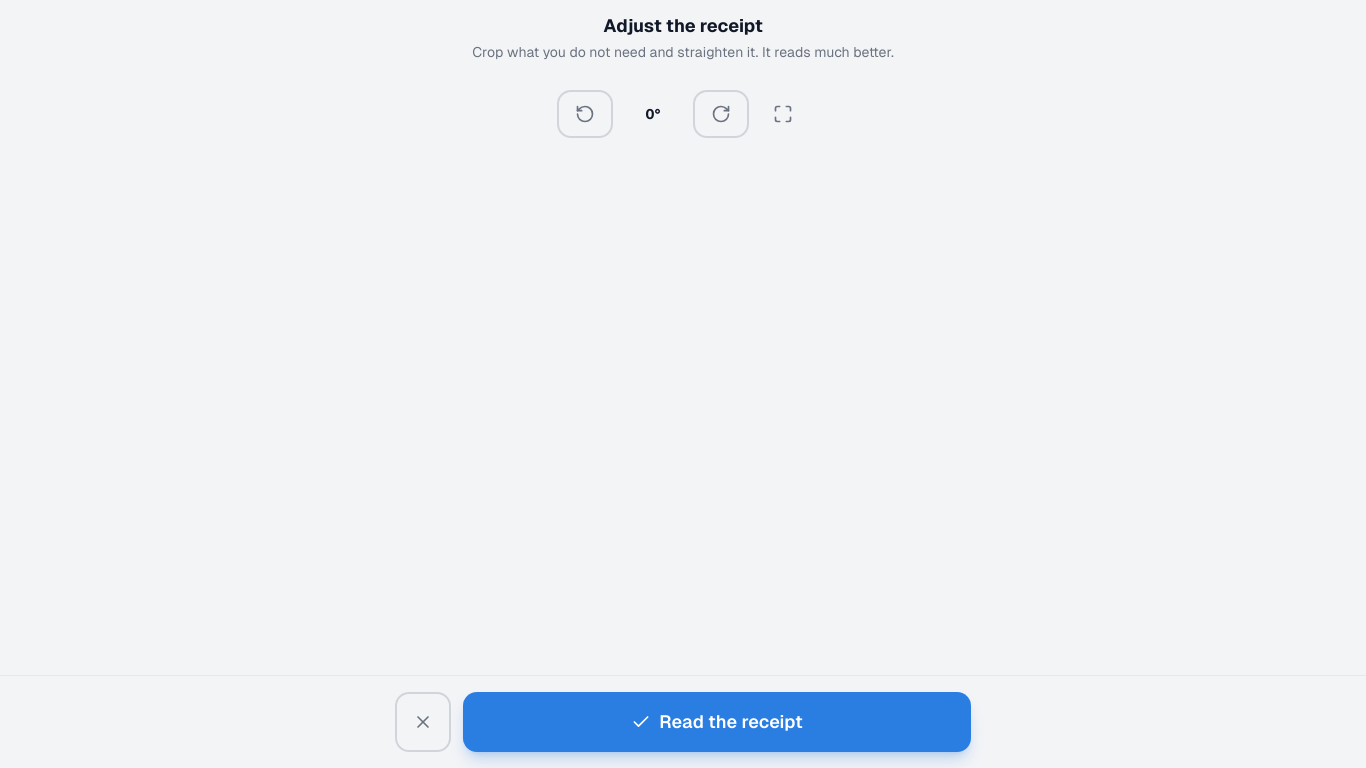
Scenario: pantalla de encuadre › deshacer devuelve el giro a cero
Click the button named "Rotate right" at (721, 114), box [693,90,749,138]
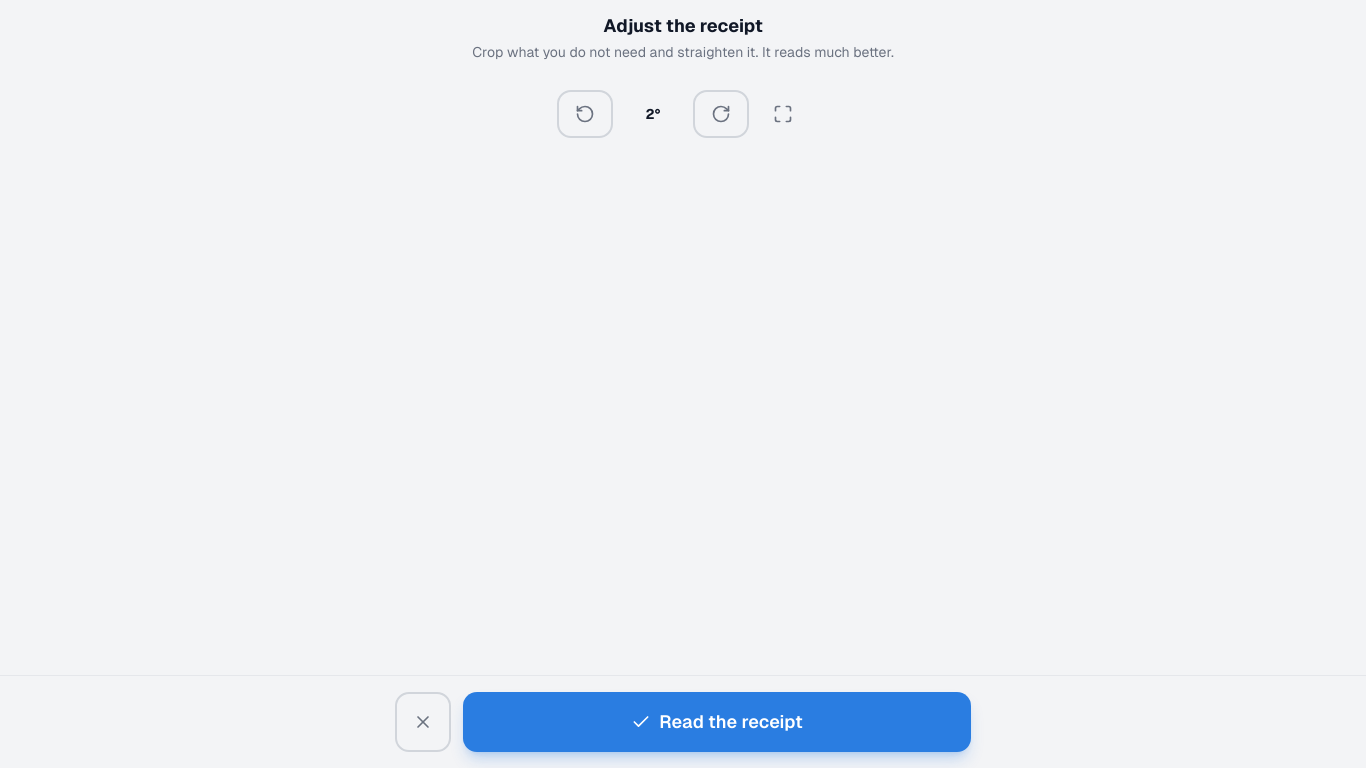
Click the button named "Undo the adjustment" at (783, 114), box [757,92,809,136]
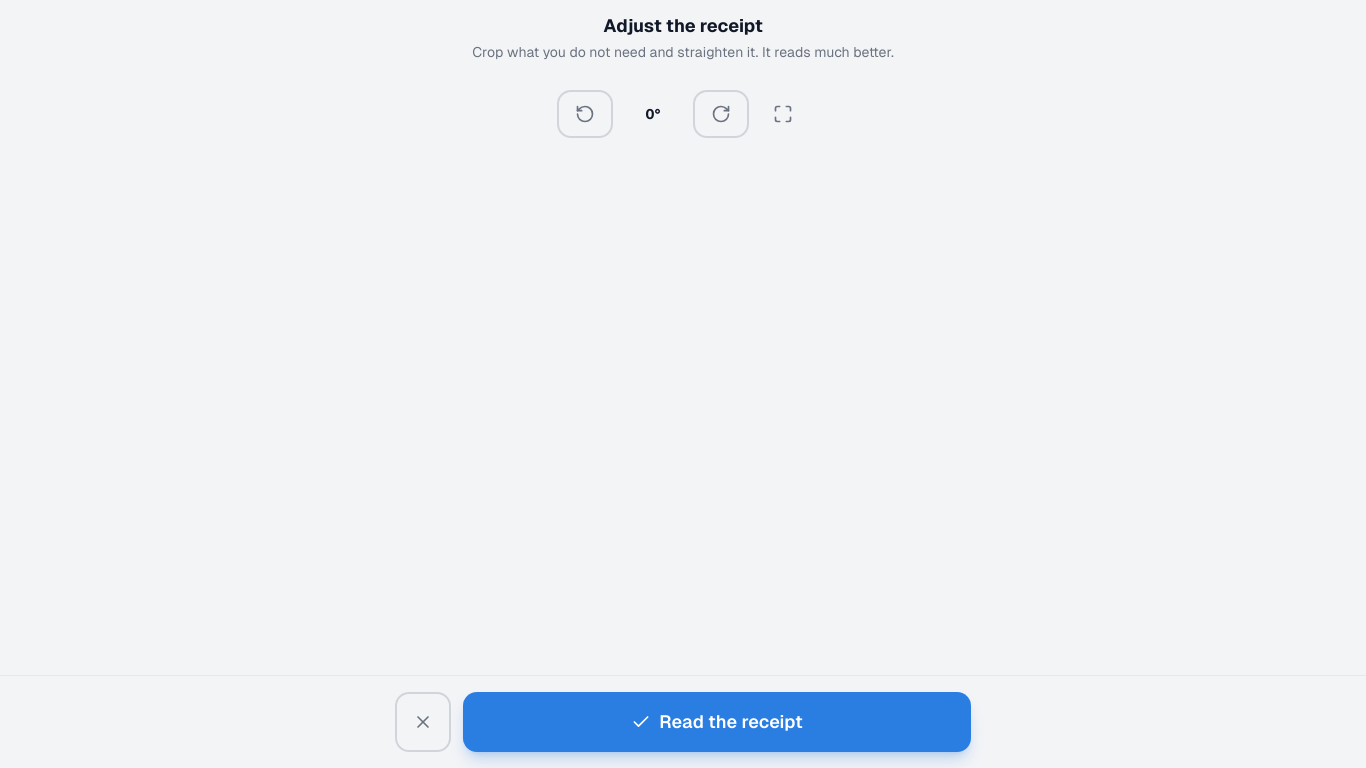
Now the text "0°" is shown, box [646,106,660,122]
